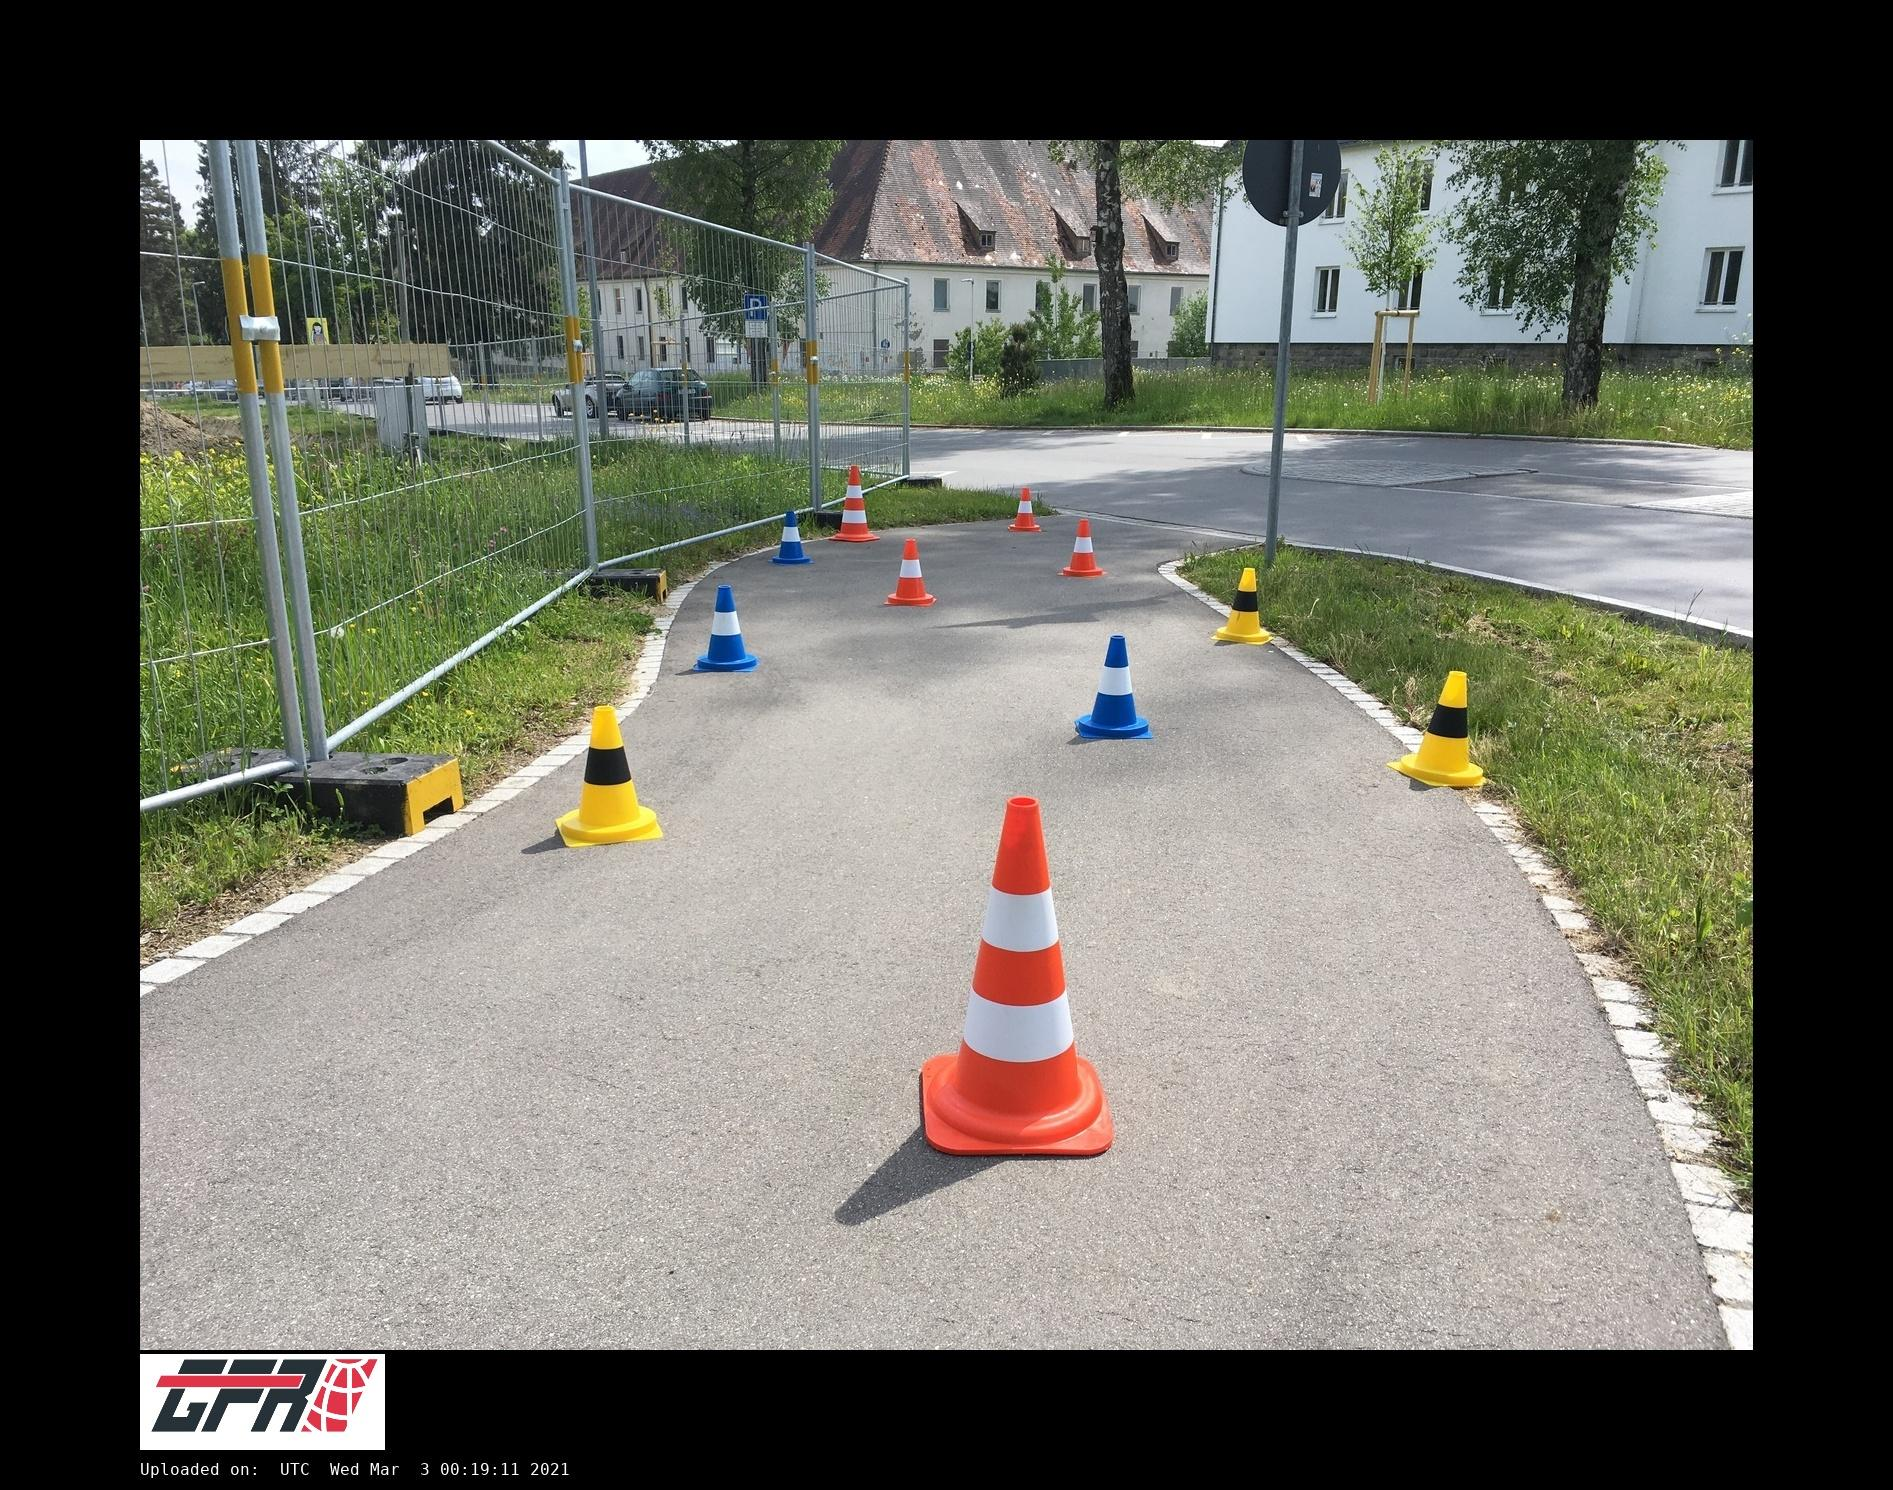blue_cone: (1075, 636, 1153, 739), (696, 586, 759, 672), (770, 511, 814, 564)
large_orange_cone: (920, 798, 1116, 1156), (829, 466, 880, 542)
orange_cone: (885, 539, 935, 607), (1058, 519, 1106, 578), (1008, 489, 1042, 532)
yellow_cone: (557, 707, 663, 846), (1392, 671, 1491, 787), (1213, 567, 1273, 645)
